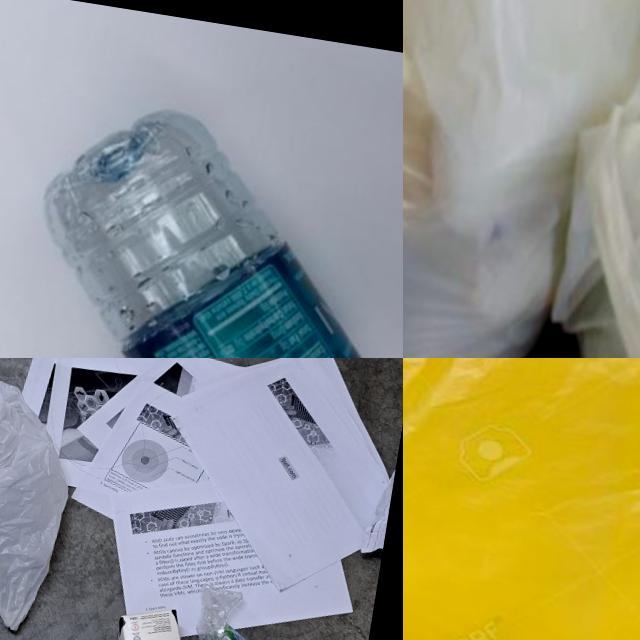caixinha: (92, 598, 229, 640)
garrafa plástica: (0, 91, 403, 358), (188, 579, 293, 640)
papel: (0, 358, 403, 640)
sacola plástica: (403, 0, 640, 358), (403, 358, 640, 640), (538, 0, 640, 358), (0, 372, 83, 638)
